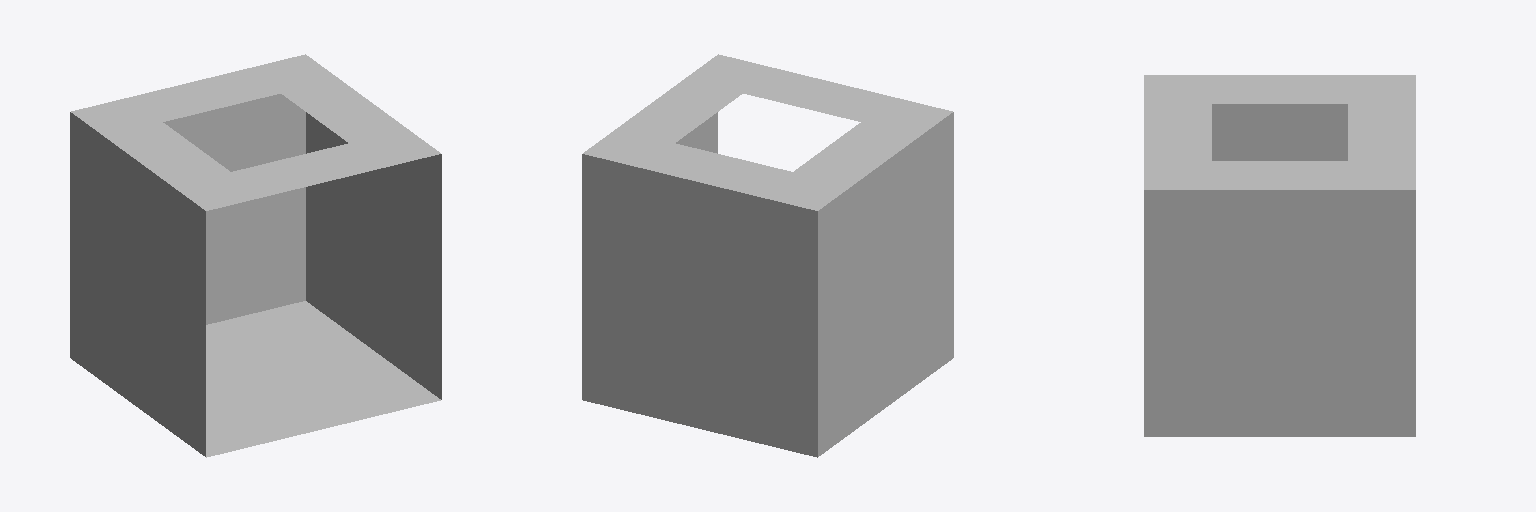
The model's file is cornellbox.obj.
3 views of the same model, side by side, from view 1: azimuth 30°, elevation 25°; view 2: azimuth 150°, elevation 25°; view 3: azimuth 270°, elevation 25° (orthographic).
Parts seen in each view (by area): view 1: Room; view 2: Room; view 3: Room.
Boxes of the visible parts, box(x1,y1,x2,y2) form: Room: box(70, 54, 441, 457); Room: box(582, 54, 953, 457); Room: box(1144, 75, 1415, 436).
Bounding box in the file's own units: 2 × 2 × 2.